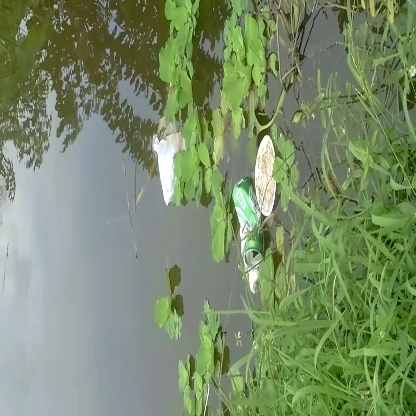bottle: (225, 174, 273, 267)
